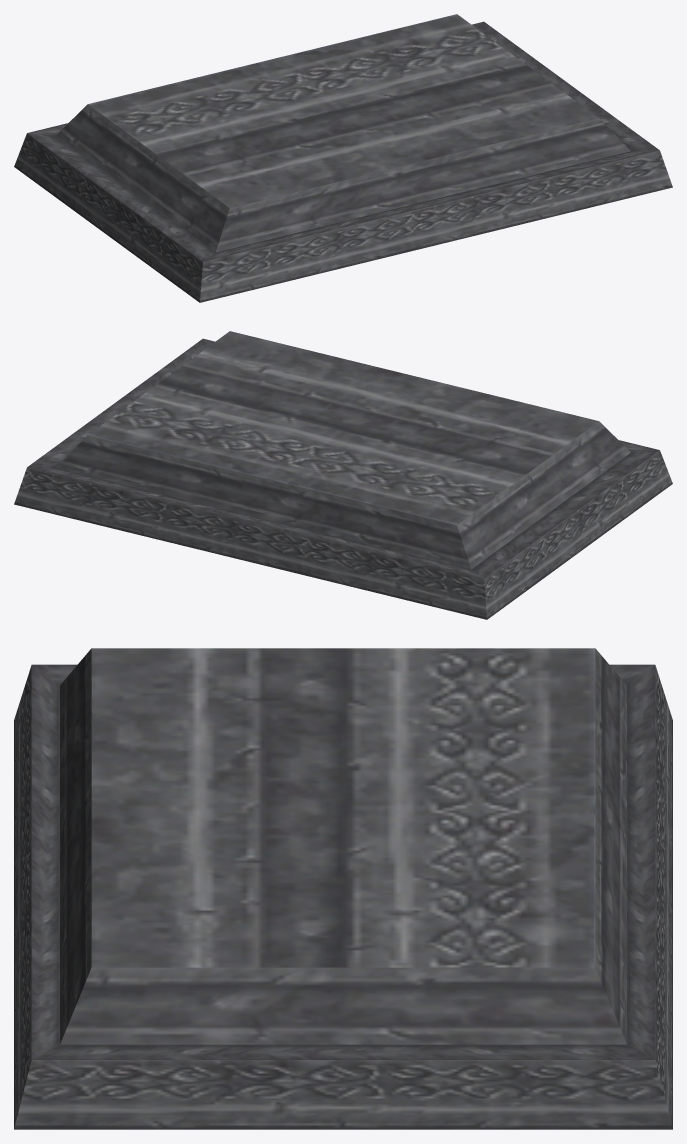
File: ark-cover-01.fbx
The picture shows the model from 3 angles, top to bottom: view 1: azimuth 30°, elevation 25°; view 2: azimuth 150°, elevation 25°; view 3: azimuth 270°, elevation 25°; orthographic projection. The views are drawn at different scales.
Visible parts, largest first — view 1: Cube.150_Cube.003; view 2: Cube.150_Cube.003; view 3: Cube.150_Cube.003.
Part boxes in pixels (x1,y1,x2,y2): Cube.150_Cube.003: (14,14,672,302); Cube.150_Cube.003: (14,331,672,619); Cube.150_Cube.003: (14,648,672,1129).
Size of the model in its own units: 1.54 by 0.205 by 1.05.
